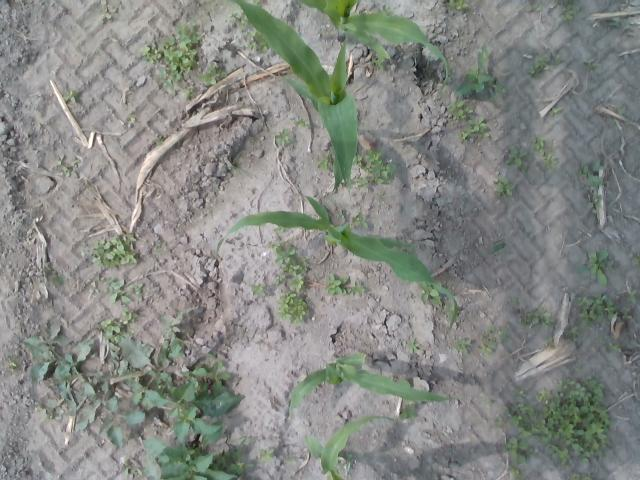Maize: (215, 195, 460, 334), (224, 0, 358, 196), (292, 0, 450, 97), (286, 351, 457, 422), (306, 413, 396, 480)
Weeds: (118, 333, 256, 480), (22, 308, 146, 450), (537, 374, 613, 467), (139, 21, 202, 93), (266, 238, 308, 292), (454, 44, 492, 96), (90, 233, 138, 269), (574, 250, 614, 288), (504, 400, 544, 438), (574, 294, 616, 327), (361, 147, 396, 184), (275, 290, 309, 325), (503, 438, 535, 466), (458, 116, 490, 143), (577, 158, 604, 190), (480, 326, 507, 356), (105, 276, 132, 304), (504, 145, 530, 174), (198, 64, 228, 88), (522, 308, 554, 330), (157, 308, 184, 334), (444, 98, 474, 120), (54, 154, 80, 178), (488, 76, 508, 106), (324, 273, 350, 296), (247, 26, 270, 52), (492, 174, 516, 198), (526, 54, 550, 77), (420, 281, 442, 306), (554, 0, 580, 21), (230, 4, 249, 30), (530, 136, 554, 156), (230, 152, 246, 176), (398, 402, 418, 420), (586, 194, 604, 213), (452, 338, 472, 355), (274, 128, 291, 147), (505, 465, 526, 480), (349, 212, 368, 228), (342, 454, 356, 475), (100, 0, 112, 24), (442, 300, 456, 320), (315, 152, 331, 169), (564, 324, 580, 340), (542, 154, 558, 170), (350, 279, 365, 296), (178, 85, 196, 99), (88, 275, 101, 294), (258, 447, 274, 462), (376, 4, 394, 17), (566, 472, 594, 480), (446, 0, 468, 10), (372, 54, 387, 68), (405, 340, 420, 354), (62, 89, 77, 103), (250, 283, 266, 296), (6, 355, 18, 372), (582, 59, 598, 71), (356, 175, 368, 189), (490, 242, 505, 253), (606, 342, 622, 352), (525, 2, 541, 12), (132, 282, 144, 295), (625, 290, 637, 302), (544, 337, 556, 349), (602, 19, 620, 27), (273, 224, 285, 236), (552, 54, 564, 65), (350, 155, 362, 166), (51, 275, 64, 285), (295, 118, 311, 126), (494, 417, 505, 427), (80, 243, 88, 256), (154, 136, 164, 146), (515, 389, 526, 398), (621, 312, 633, 320), (549, 107, 561, 115), (153, 241, 163, 250), (632, 253, 640, 264), (338, 209, 347, 218), (248, 0, 260, 6), (129, 114, 137, 122), (511, 299, 518, 306)
